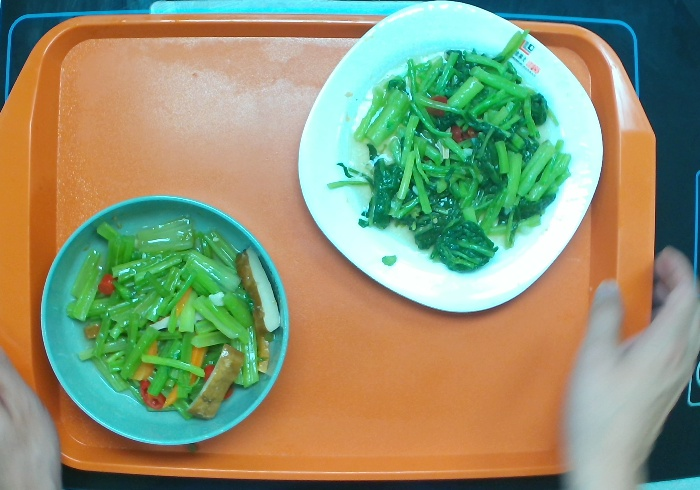ZNLD-Qing_Hua_Yuan_Wan: (32, 191, 294, 457)
ZNLD-Yuan_Jiao_Pan: (284, 1, 608, 316)
